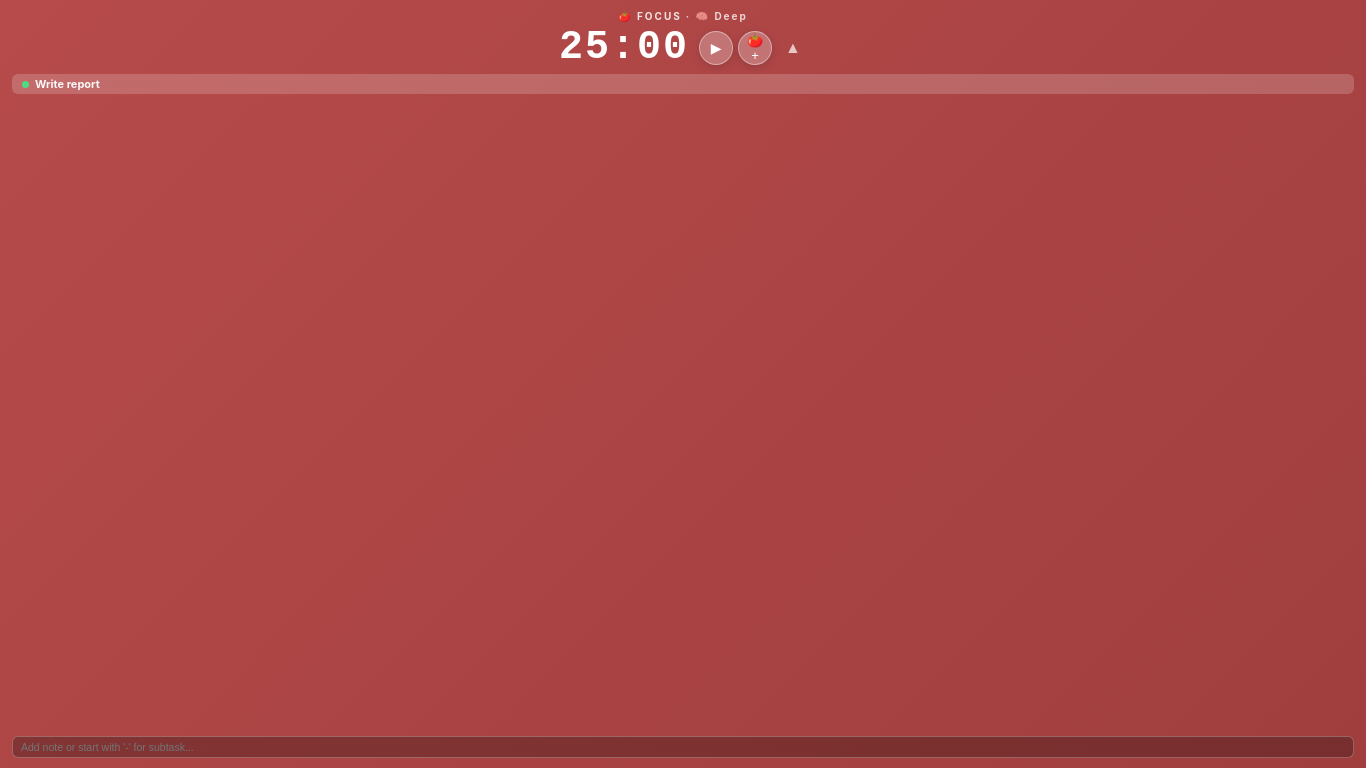
Test case: PomodoroWidgetContent Component › allows filling task name from pending tasks suggestion
Click the button titled "Start a new Pomodoro" at (755, 48), box [738,31,772,65]
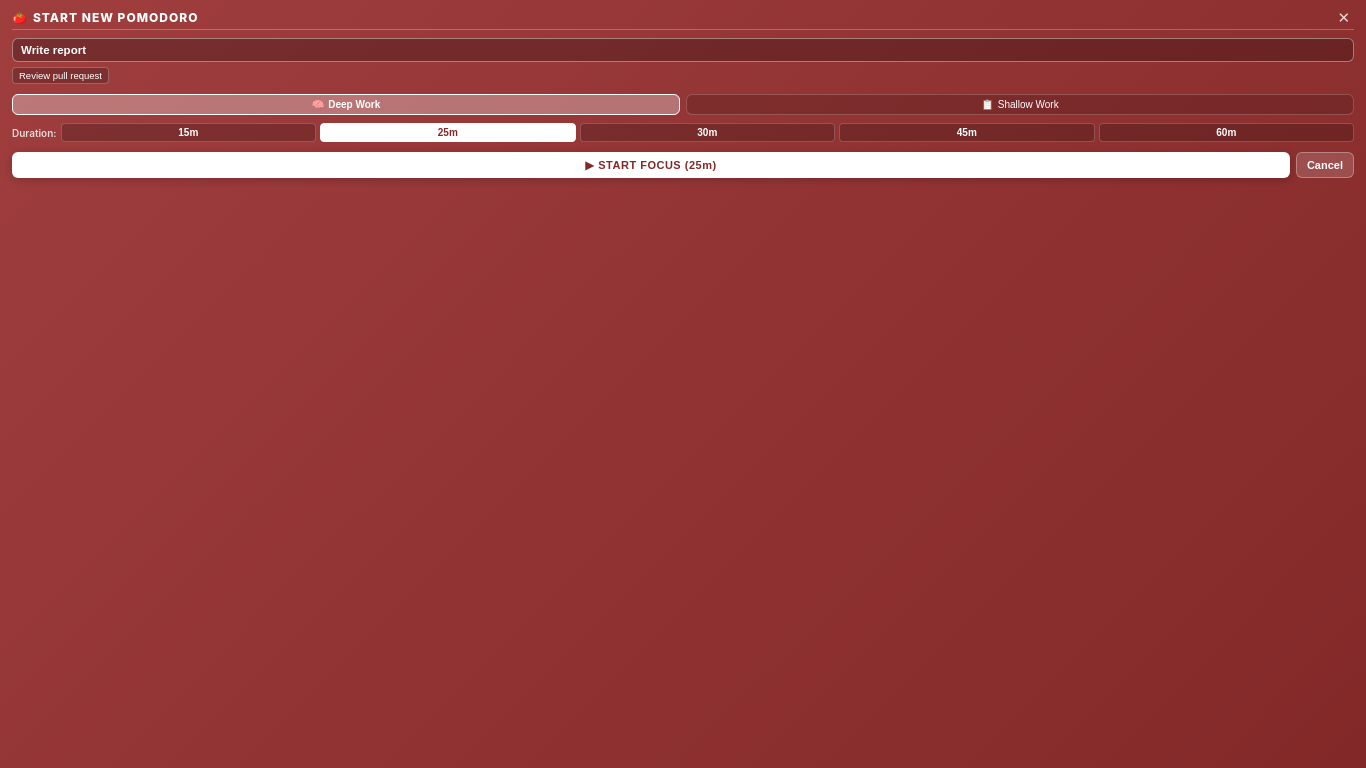
Now the button titled "Use task: Review pull request" is shown
Click the button titled "Use task: Review pull request" at (60, 76), box [12,67,109,84]
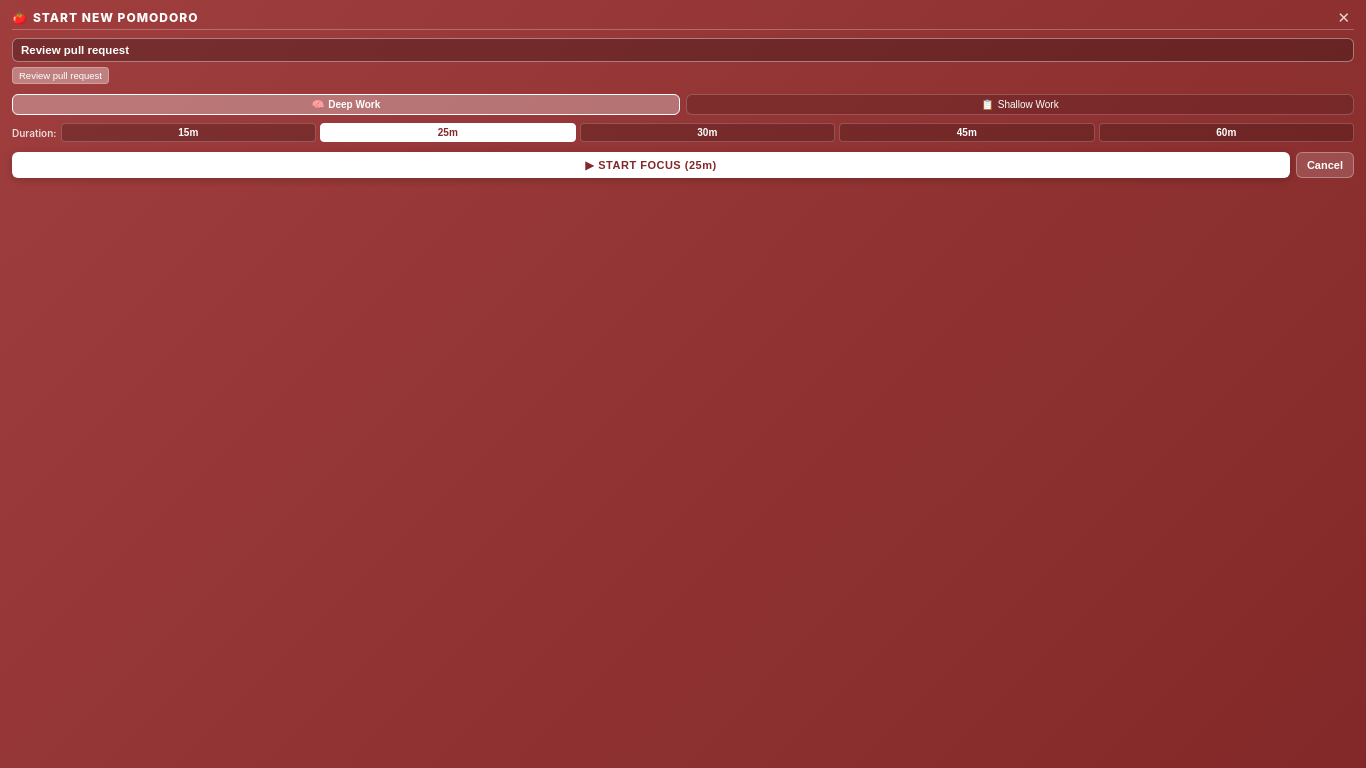
Now the field with placeholder "What are you focusing on?" holds "Review pull request", box [12,38,1354,62]
